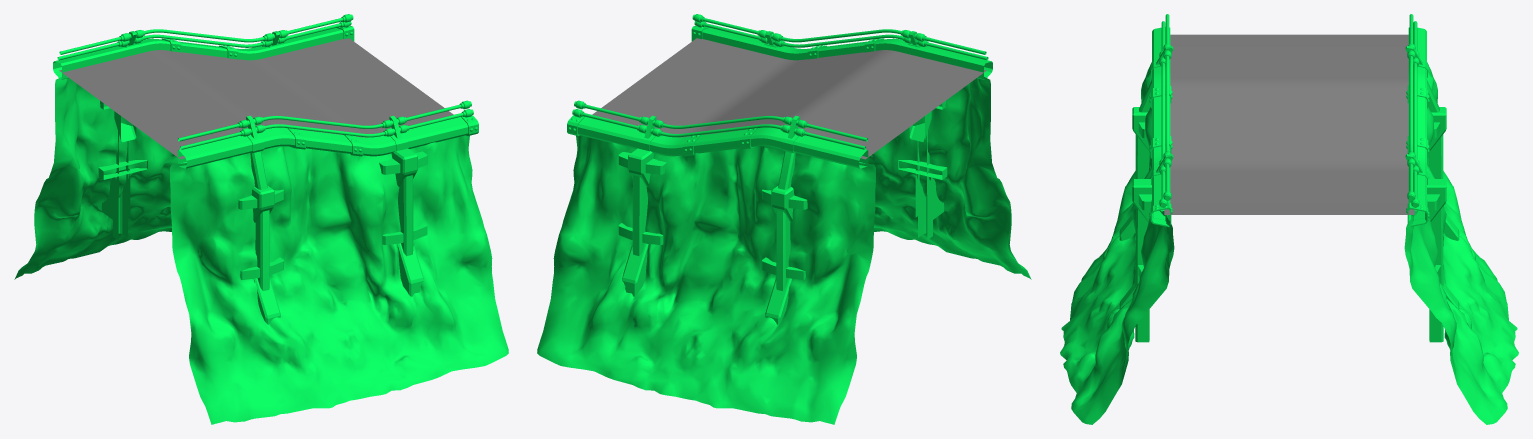
File: Track_02.fbx
The picture shows the model from 3 angles, left to right: view 1: azimuth 30°, elevation 25°; view 2: azimuth 150°, elevation 25°; view 3: azimuth 270°, elevation 25°; orthographic projection. The views are drawn at different scales.
Parts seen in each view (by area): view 1: Side_Rock_002, Road_002; view 2: Side_Rock_002, Road_002; view 3: Road_002, Side_Rock_002.
Boxes of the visible parts, x1,y1,x2,y2 form: Side_Rock_002: (14,14,508,424); Road_002: (59,38,453,159); Side_Rock_002: (537,14,1031,424); Road_002: (592,38,986,159); Road_002: (1164,34,1414,214); Side_Rock_002: (1060,14,1518,424).
Size of what is drawn, in the model's own units: 3159 by 4039 by 2600.
